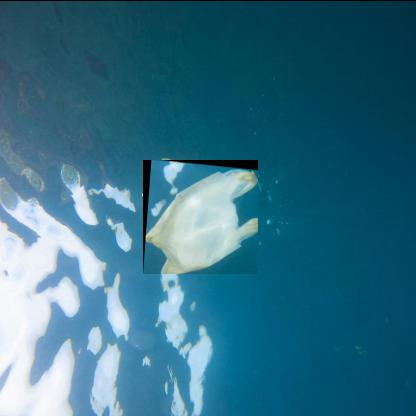plastic-bag: (143, 158, 259, 273)
